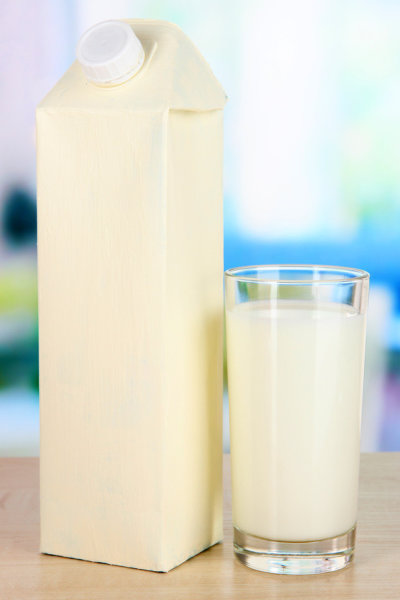glass of milk: (225, 254, 376, 579)
